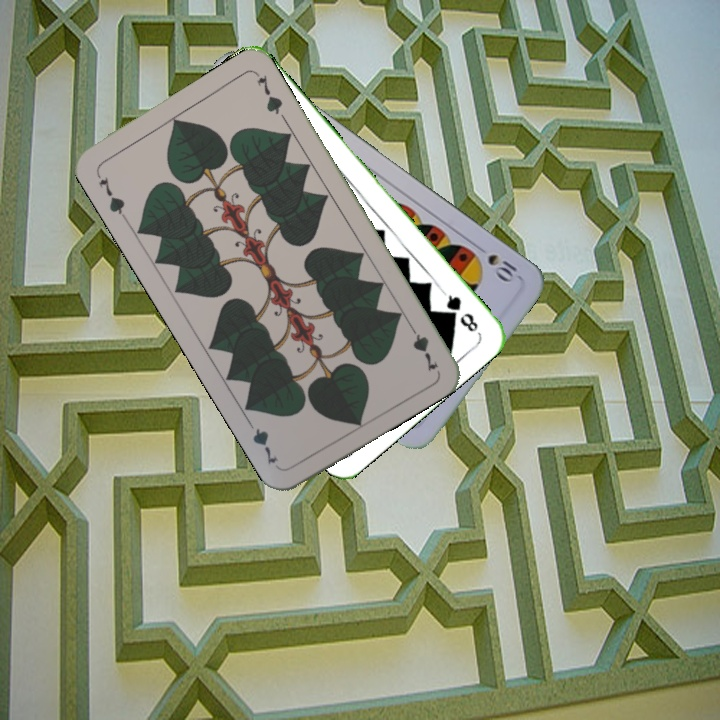G7: (404, 318, 442, 375), (92, 168, 129, 222)
G8: (438, 287, 481, 335)
S10: (471, 242, 522, 285)
